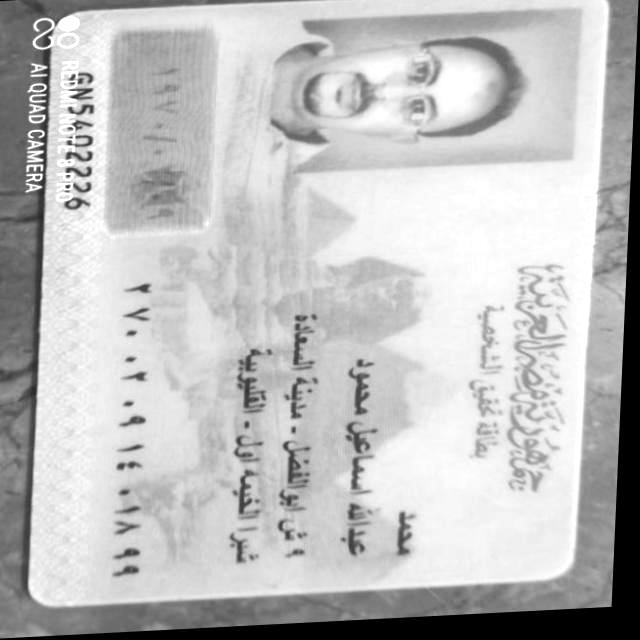id_card: (28, 0, 607, 606)
